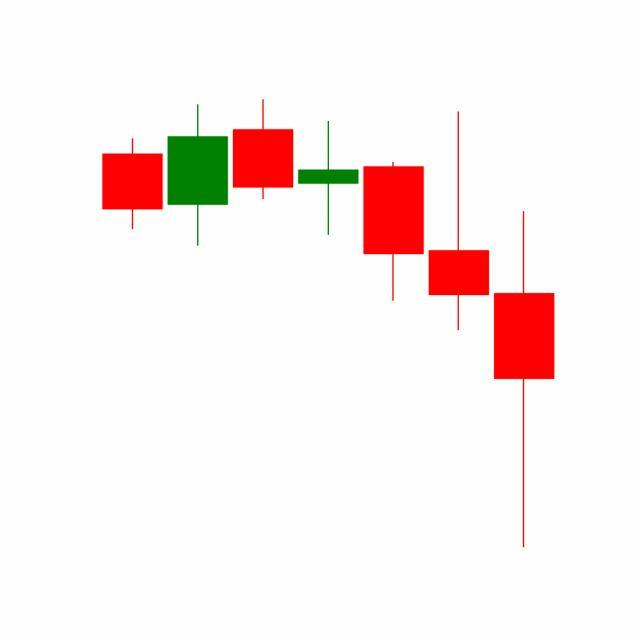Three Outside Up-Down: (295, 109, 492, 333)
